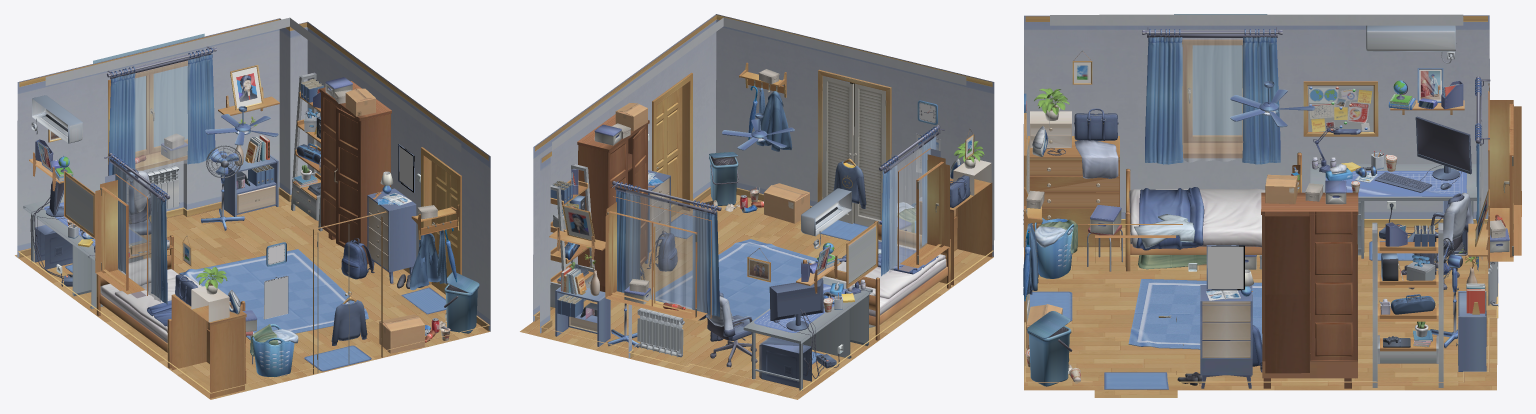
The model's file is player_room_opt.glb.
The picture shows the model from 3 angles, left to right: view 1: azimuth 30°, elevation 25°; view 2: azimuth 150°, elevation 25°; view 3: azimuth 270°, elevation 25°; orthographic projection. The views are drawn at different scales.
Parts seen in each view (by area): view 1: mesh_492, mesh_297, mesh_370, mesh_509, mesh_230, mesh_372, mesh_430, mesh_490, mesh_410, mesh_276, mesh_426, mesh_323 (+29 smaller); view 2: mesh_492, mesh_297, mesh_509, mesh_230, mesh_477, mesh_370, mesh_430, mesh_372, mesh_448, mesh_410, mesh_426, mesh_323 (+26 smaller); view 3: mesh_492, mesh_297, mesh_370, mesh_372, mesh_230, mesh_410, mesh_509, mesh_430, mesh_490, mesh_480, mesh_276, mesh_448 (+32 smaller).
Boxes of the visible parts, x1=… form: mesh_492: x1=17, y1=18, x2=490, y2=393; mesh_297: x1=15, y1=194, x2=489, y2=399; mesh_370: x1=319, y1=81, x2=416, y2=283; mesh_509: x1=113, y1=60, x2=187, y2=302; mesh_230: x1=104, y1=46, x2=216, y2=304; mesh_372: x1=93, y1=33, x2=204, y2=295; mesh_430: x1=65, y1=249, x2=446, y2=371; mesh_490: x1=171, y1=286, x2=246, y2=398; mesh_410: x1=96, y1=235, x2=245, y2=368; mesh_276: x1=45, y1=17, x2=461, y2=152; mesh_426: x1=421, y1=147, x2=461, y2=294; mesh_323: x1=23, y1=196, x2=146, y2=309; mesh_492: x1=533, y1=14, x2=994, y2=391; mesh_297: x1=520, y1=194, x2=993, y2=399; mesh_509: x1=625, y1=134, x2=936, y2=315; mesh_230: x1=612, y1=125, x2=944, y2=316; mesh_477: x1=817, y1=69, x2=891, y2=226; mesh_370: x1=577, y1=114, x2=670, y2=291; mesh_430: x1=650, y1=213, x2=868, y2=364; mesh_372: x1=605, y1=148, x2=949, y2=320; mesh_448: x1=759, y1=278, x2=842, y2=387; mesh_410: x1=803, y1=221, x2=950, y2=340; mesh_426: x1=652, y1=72, x2=692, y2=216; mesh_323: x1=743, y1=277, x2=872, y2=390; mesh_492: x1=1023, y1=15, x2=1498, y2=382; mesh_297: x1=1024, y1=227, x2=1497, y2=397; mesh_370: x1=1200, y1=192, x2=1358, y2=388; mesh_372: x1=1174, y1=14, x2=1521, y2=268; mesh_230: x1=1142, y1=27, x2=1490, y2=270; mesh_410: x1=1125, y1=152, x2=1301, y2=271; mesh_509: x1=1182, y1=38, x2=1484, y2=259; mesh_430: x1=1028, y1=241, x2=1435, y2=389; mesh_490: x1=1027, y1=111, x2=1119, y2=246; mesh_480: x1=1372, y1=222, x2=1443, y2=387; mesh_276: x1=1049, y1=14, x2=1463, y2=125; mesh_448: x1=1374, y1=116, x2=1471, y2=255.
Bounding box in the file's own units: 4.1 × 2.28 × 4.61.
Materials: 80 (78 with a texture image).
